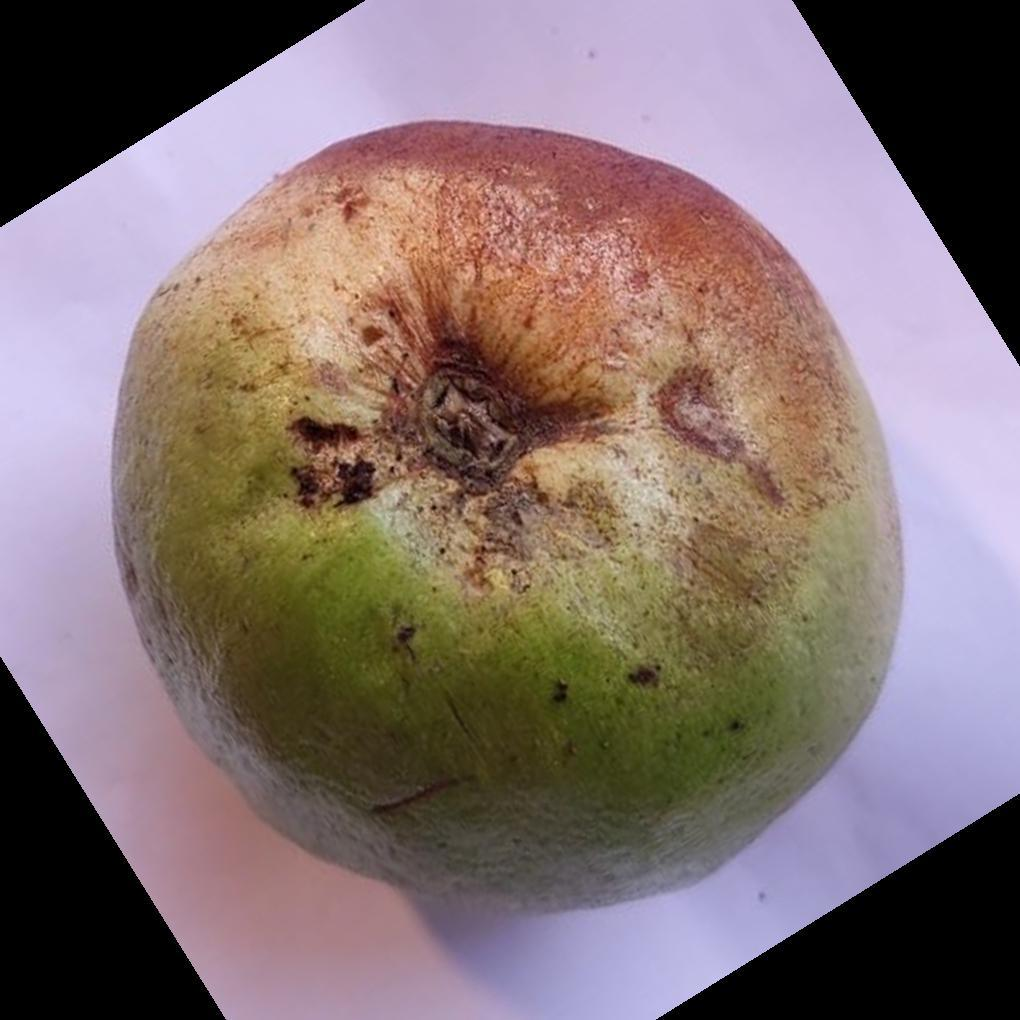FreshOrange: (109, 121, 906, 921)
